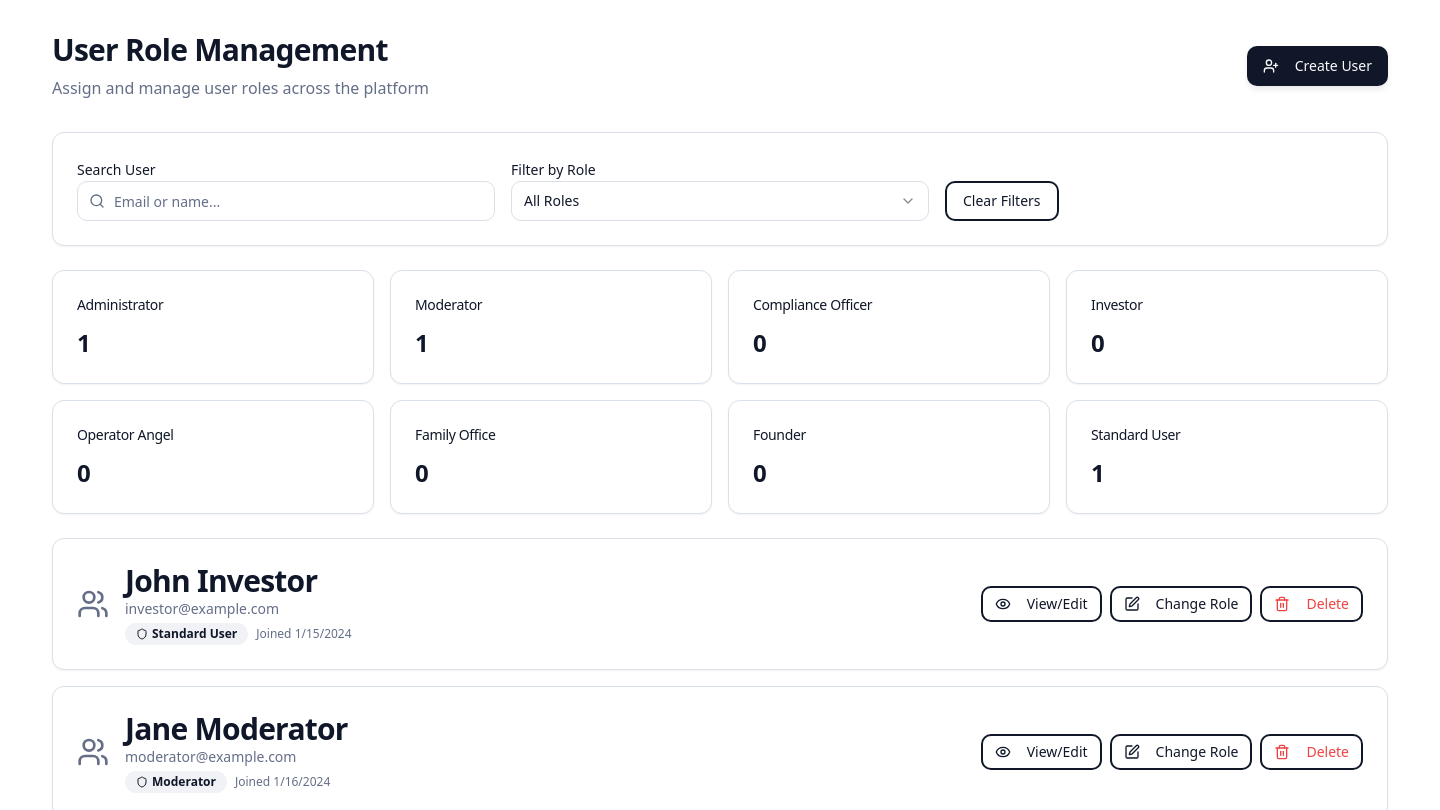
Test: US-ADMIN-CRUD-001: User Create › should open create user dialog when clicking Create User button
The width and height of the screenshot is (1440, 810).
expect the heading "John Investor" is shown: met, box [125,560,317,601]
Click the button "Create User" at (1317, 66), box [1247,46,1388,86]
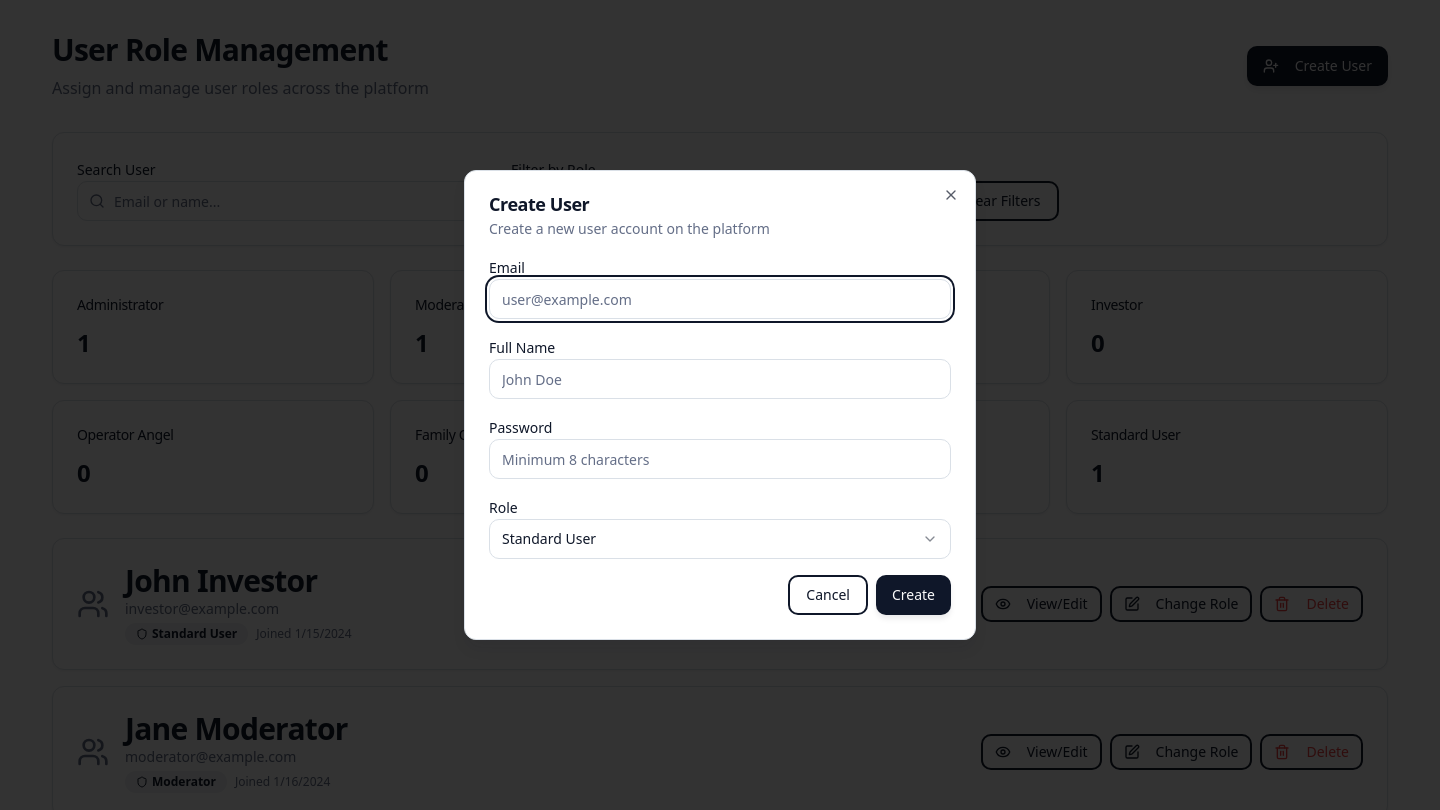
expect the dialog is shown: met, box [464,170,976,640]
expect the field labelled "Email" is shown: met, box [489,279,951,319]
expect the field labelled "Full Name" is shown: met, box [489,359,951,399]
